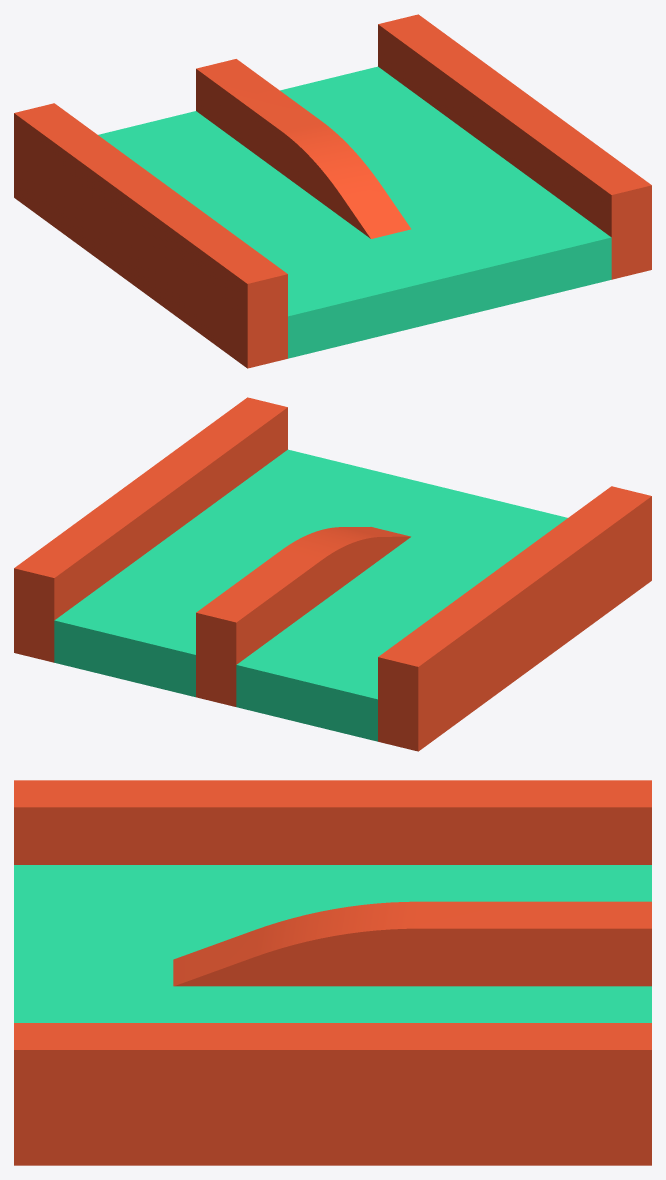
File: track_11.fbx
3 renders of one model, top to bottom at view 1: azimuth 30°, elevation 25°; view 2: azimuth 150°, elevation 25°; view 3: azimuth 270°, elevation 25°, orthographic. The views are drawn at different scales.
Parts seen in each view (by area): view 1: straight_mid_end_21; view 2: straight_mid_end_21; view 3: straight_mid_end_21.
Boxes of the visible parts, left/top/right/bottom form: straight_mid_end_21: left=14, top=14, right=651, bottom=368; straight_mid_end_21: left=14, top=397, right=651, bottom=751; straight_mid_end_21: left=14, top=780, right=651, bottom=1165.
Size of the model in its own units: 10 by 2 by 10.
